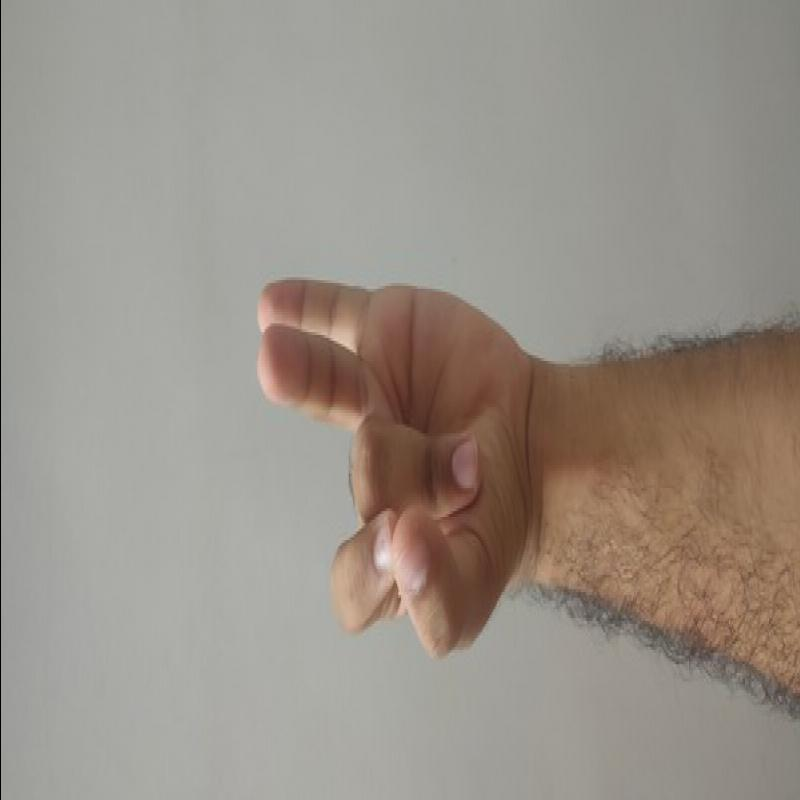Katakam: (229, 264, 568, 664)
